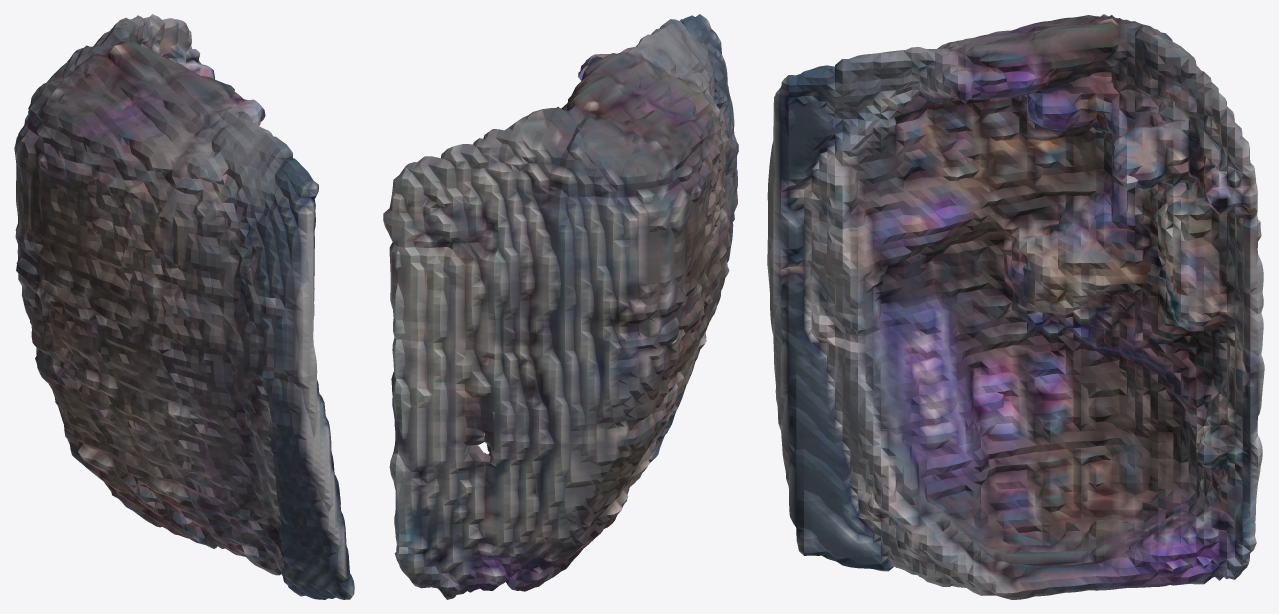
The model's file is building-library.glb.
The picture shows the model from 3 angles, left to right: view 1: azimuth 30°, elevation 25°; view 2: azimuth 150°, elevation 25°; view 3: azimuth 270°, elevation 25°; orthographic projection. The views are drawn at different scales.
Parts seen in each view (by area): view 1: world; view 2: world; view 3: world.
Boxes of the visible parts, x1,y1,x2,y2 form: world: [14, 14, 354, 599]; world: [383, 14, 738, 599]; world: [767, 14, 1264, 599].
Size of the model in its own units: 0.5441 by 1.02 by 0.8859.
